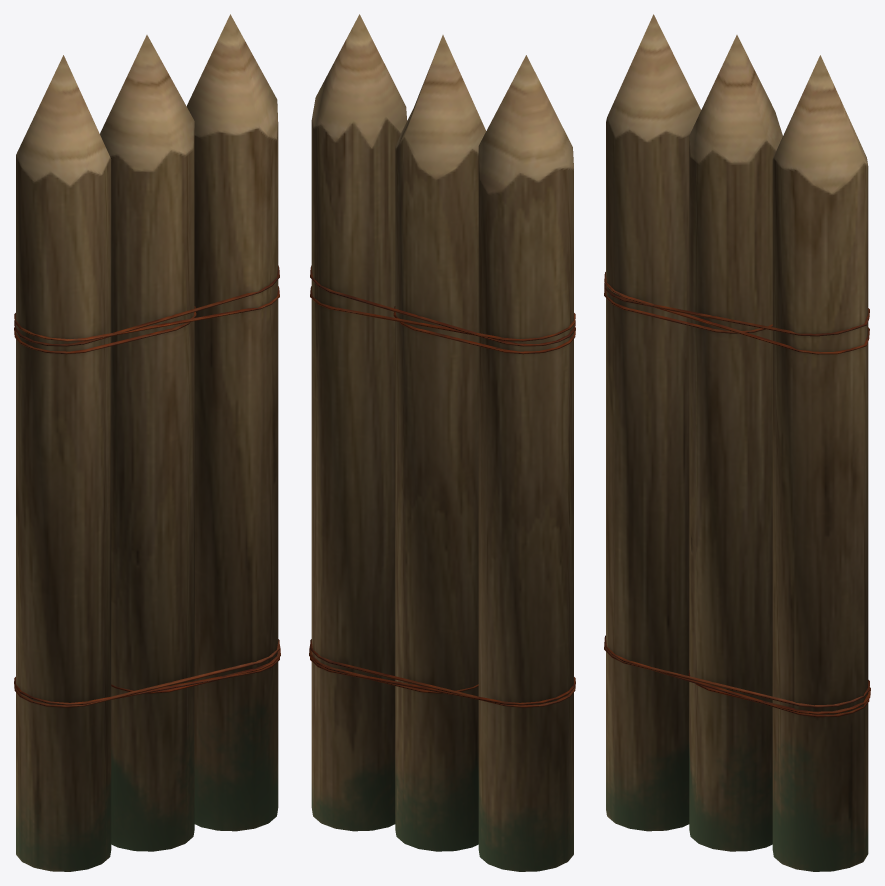
Rendered from sb_obj_outdoor015_WoodWall01b.fbx.
3 views of the same model, side by side, from view 1: azimuth 30°, elevation 25°; view 2: azimuth 150°, elevation 25°; view 3: azimuth 330°, elevation 25° (orthographic).
Parts seen in each view (by area): view 1: sb_obj_outdoor015_WoodWall01b, wire_01b; view 2: sb_obj_outdoor015_WoodWall01b, wire_01b; view 3: sb_obj_outdoor015_WoodWall01b, wire_01b.
Part boxes in pixels (x1,y1,x2,y2): sb_obj_outdoor015_WoodWall01b: (16, 14, 278, 871); wire_01b: (14, 265, 280, 707); sb_obj_outdoor015_WoodWall01b: (311, 14, 573, 871); wire_01b: (309, 265, 575, 707); sb_obj_outdoor015_WoodWall01b: (606, 14, 868, 871); wire_01b: (604, 272, 870, 717).
Size of the model in its own units: 1.01 by 3 by 0.3491.
